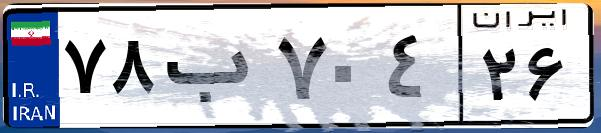0: (330, 28, 385, 110)
2: (475, 38, 525, 113)
4: (385, 28, 445, 110)
6: (525, 38, 570, 115)
7: (270, 28, 330, 110), (57, 26, 110, 100)
8: (110, 28, 158, 98)
ب: (158, 20, 270, 120)
